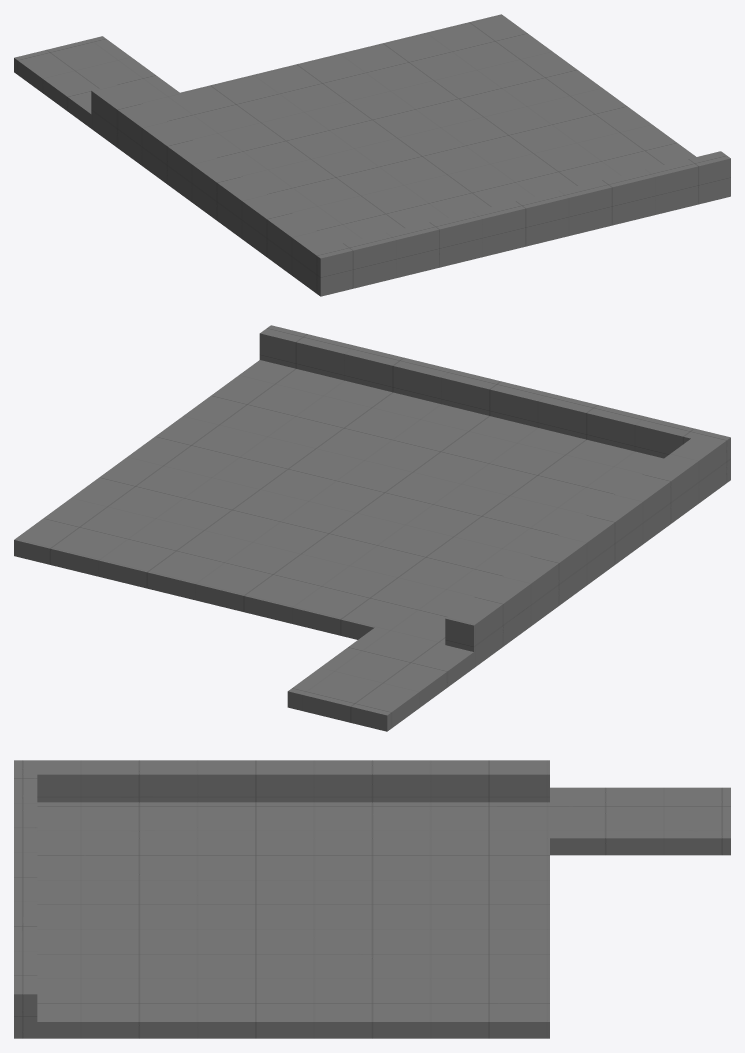
The model's file is Platform.fbx.
3 views of the same model, one above another, from view 1: azimuth 30°, elevation 25°; view 2: azimuth 150°, elevation 25°; view 3: azimuth 270°, elevation 25° (orthographic). The views are drawn at different scales.
Parts seen in each view (by area): view 1: Platform; view 2: Platform; view 3: Platform.
Part boxes in pixels (x1=…): Platform: x1=14, y1=14, x2=730, y2=296; Platform: x1=14, y1=325, x2=730, y2=731; Platform: x1=14, y1=760, x2=730, y2=1038.
Size of the model in its own units: 16.04 by 1.43 by 20.77.
